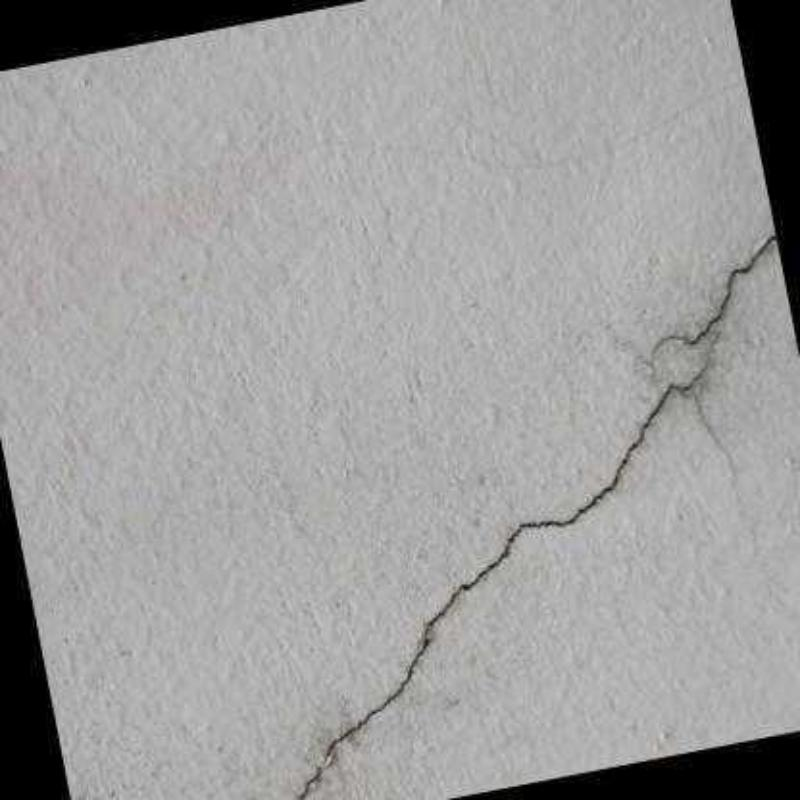crack: (293, 367, 703, 799), (680, 225, 778, 351), (681, 373, 740, 492), (637, 335, 690, 373)
